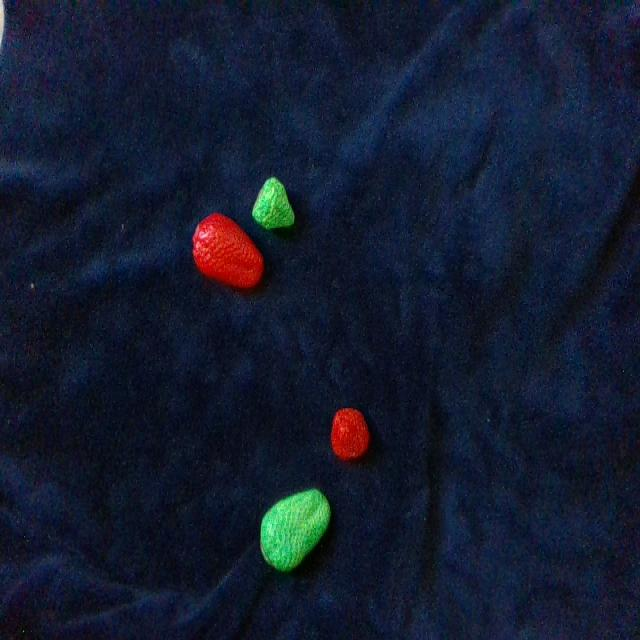chica_roja: (331, 408, 369, 460)
grande_roja: (193, 213, 262, 288)
verde: (260, 489, 330, 571), (253, 177, 294, 228)
